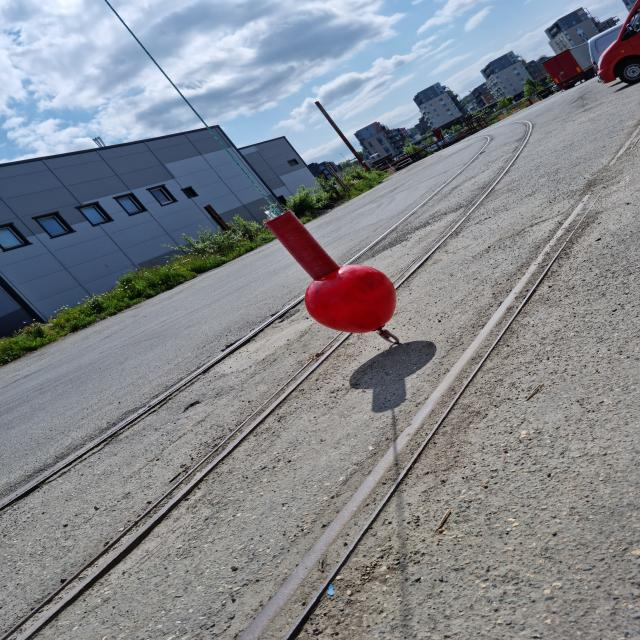red: (266, 210, 396, 333)
